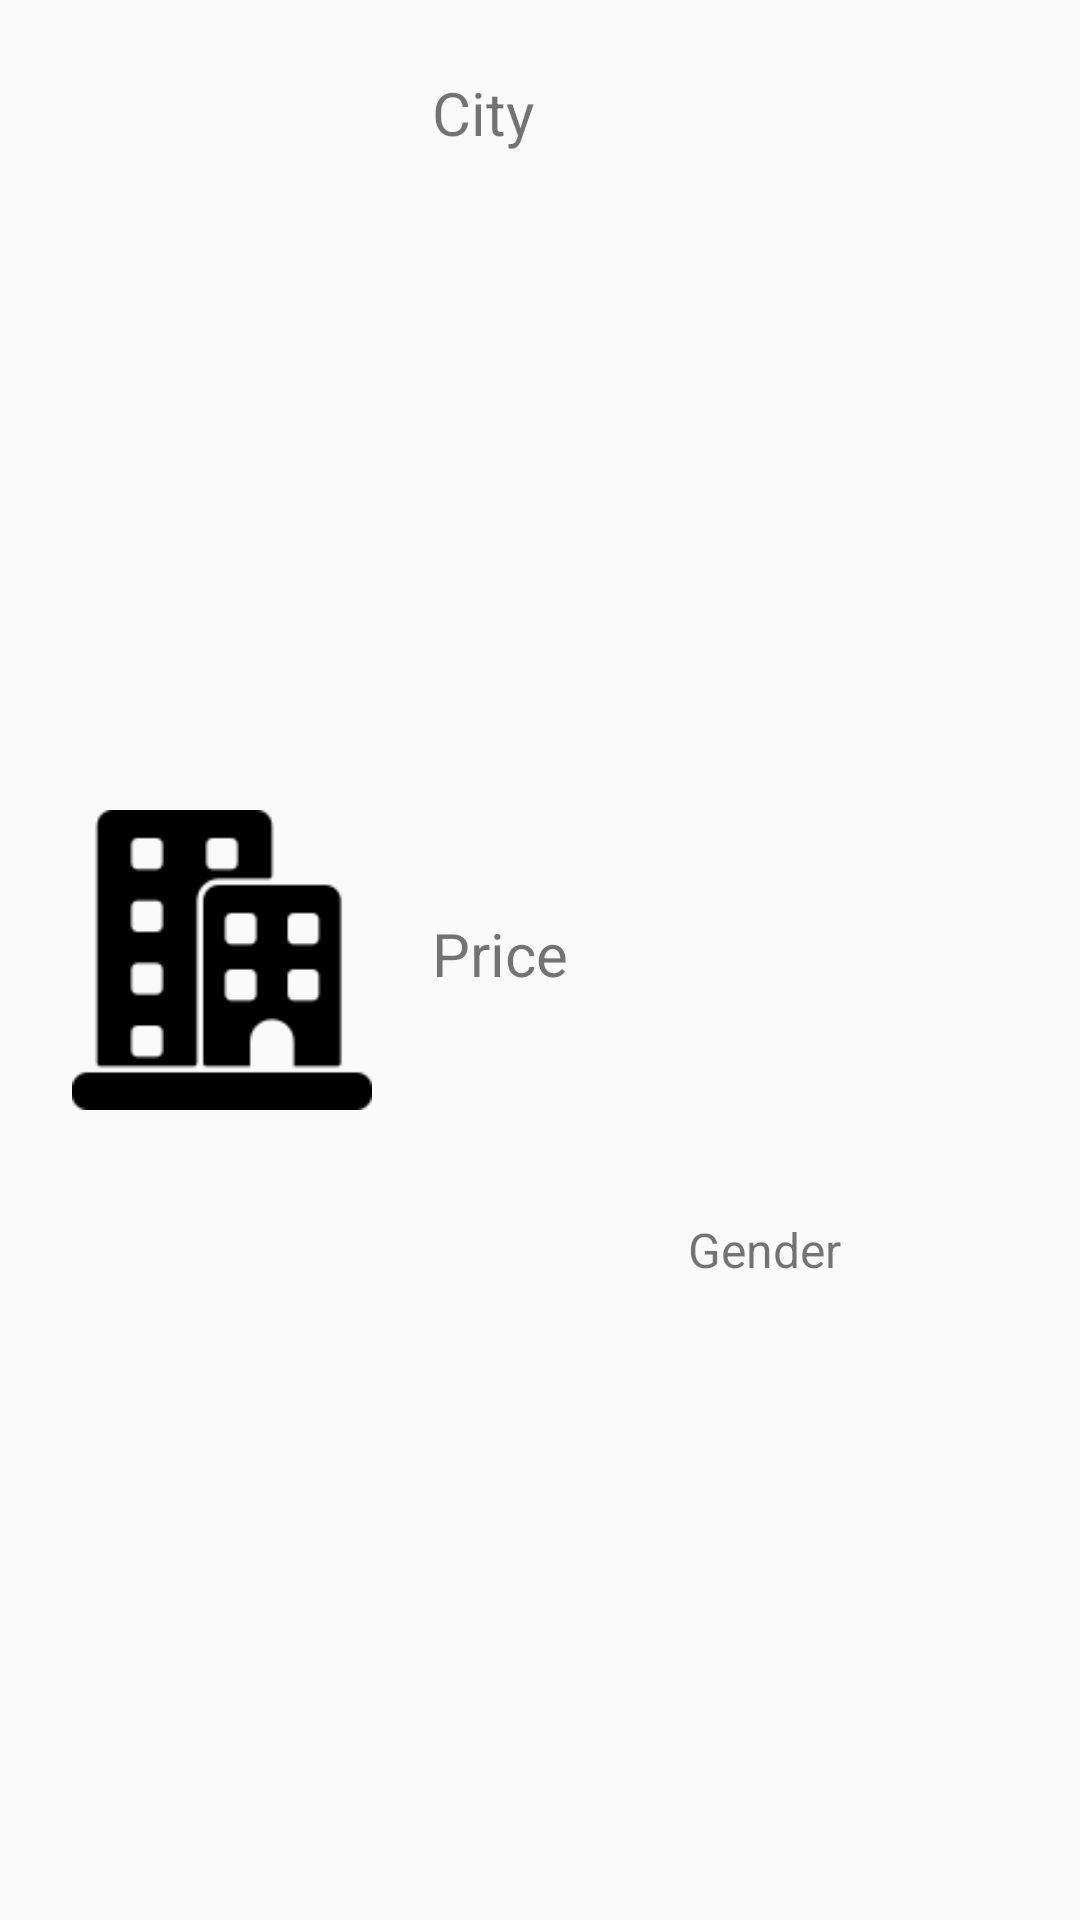

Where to tap for icons on this 1080px x 1920px app screen, as (x=x, y=y):
condominium: (x=222, y=960)
